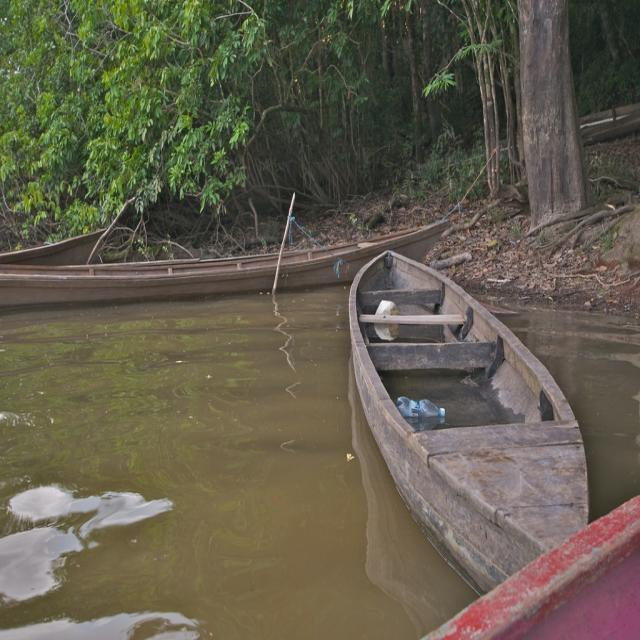Boat: (346, 245, 592, 592), (0, 210, 452, 308)
